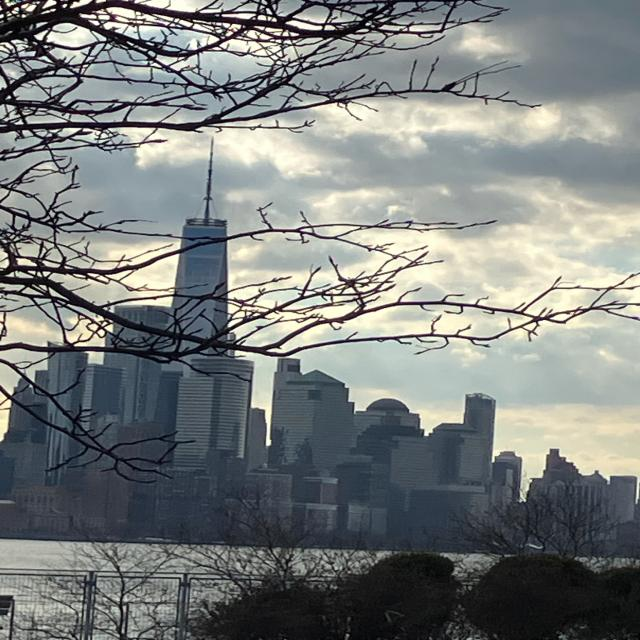WTC: (170, 134, 233, 353)
